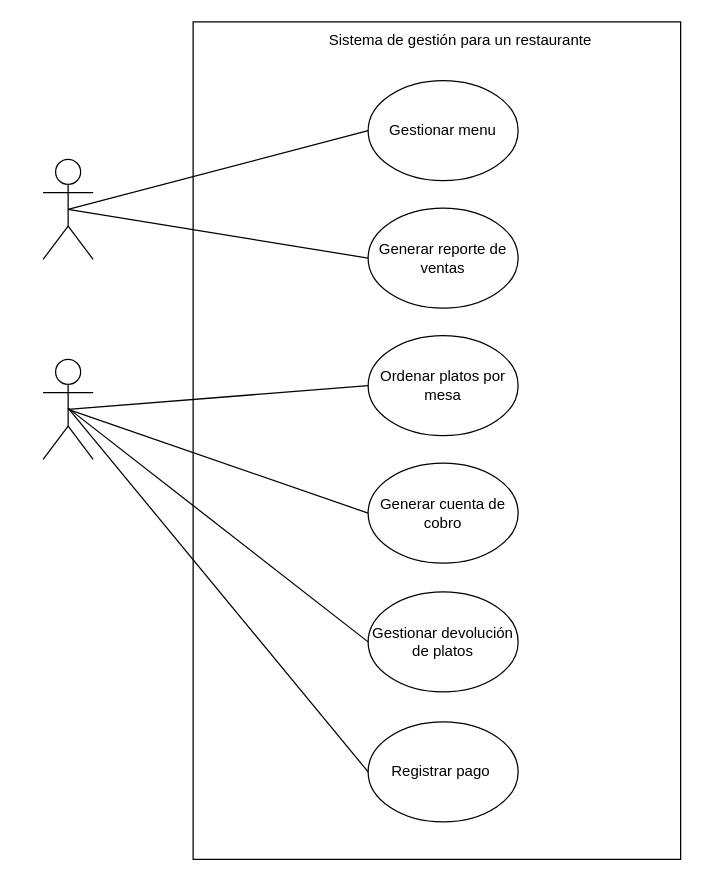
Some shapes in this 703 by 881 pixel diagram are drawn without their labels. Here are the shapes that lost their labels. From the top down, the centre of each, then its label:
At (x=67, y=208): "Administrador".
At (x=67, y=408): "Cajero".
